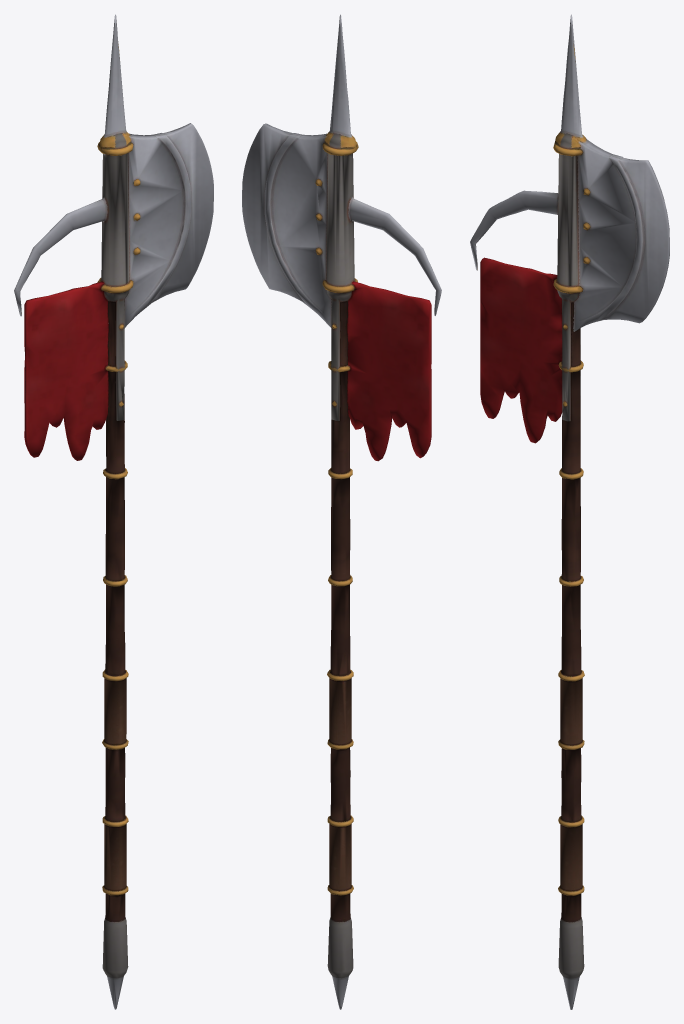
File: boss_captain_halberd_patina.glb
3 views of the same model, side by side, from view 1: azimuth 30°, elevation 25°; view 2: azimuth 150°, elevation 25°; view 3: azimuth 330°, elevation 25° (orthographic).
Parts seen in each view (by area): view 1: boss_captain_halberd_patina; view 2: boss_captain_halberd_patina; view 3: boss_captain_halberd_patina.
Part boxes in pixels (<box>): boss_captain_halberd_patina: <box>14,14,213,1009</box>; boss_captain_halberd_patina: <box>242,14,441,1009</box>; boss_captain_halberd_patina: <box>470,14,669,1009</box>.
Bounding box in the file's own units: 0.7309 × 3.48 × 0.1145.
Materials: 1 (1 with a texture image).
